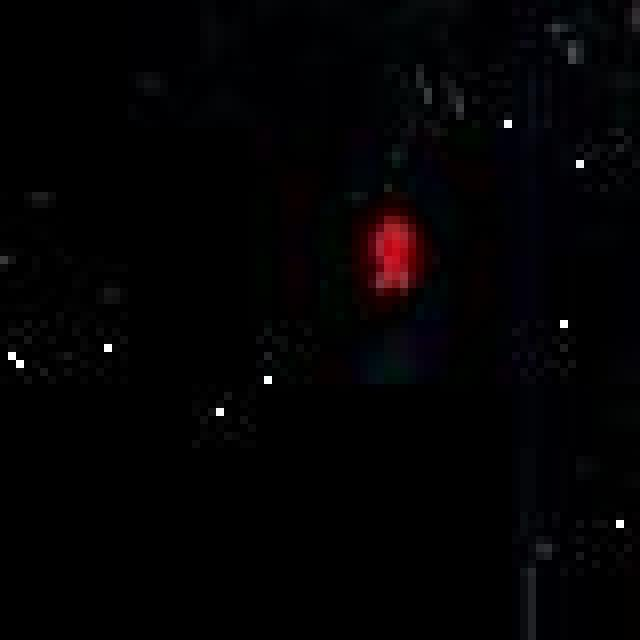redlight: (346, 192, 459, 436)
